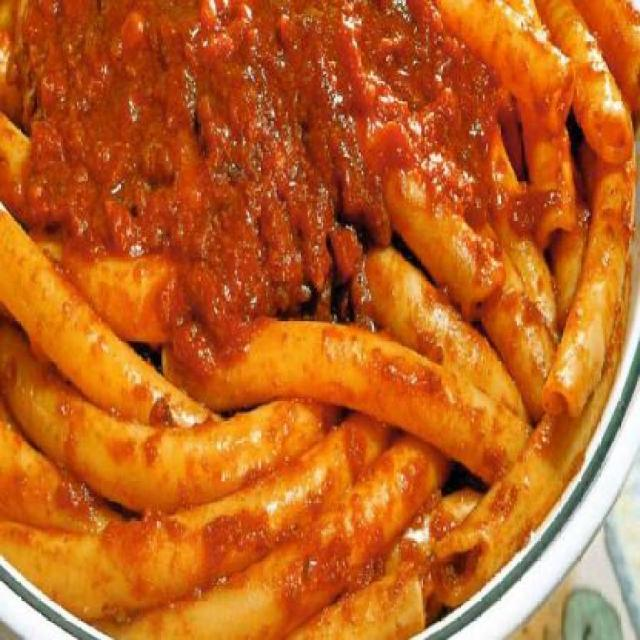Pasta al ragu: (9, 11, 620, 628)
